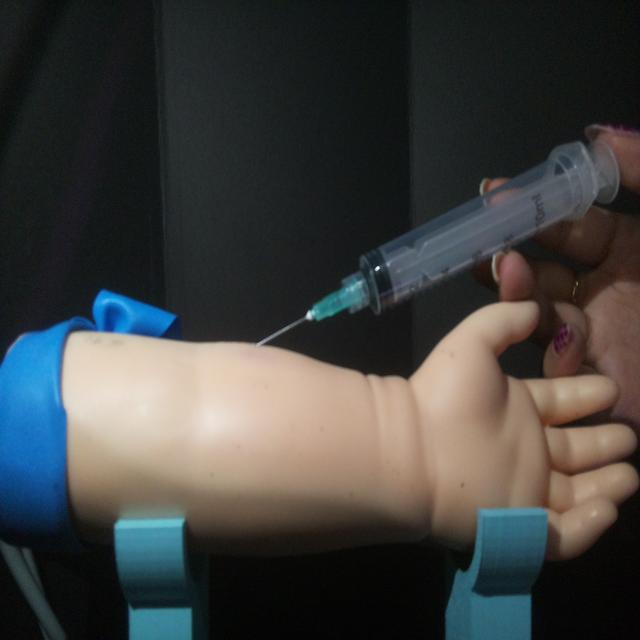27deg: (250, 130, 622, 351)
